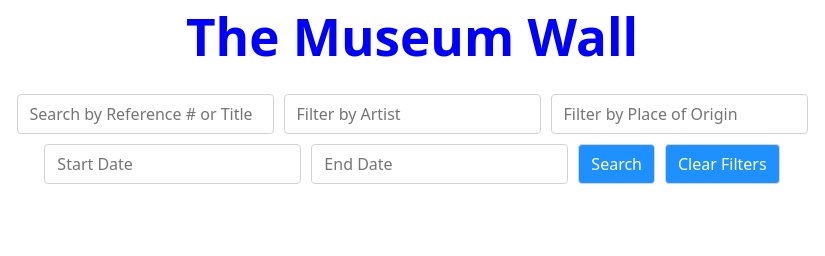
Test: App Component › should display a "no results" message if a search yields no matches
The image size is (825, 256).
Type "Monet" into the field with placeholder "Search by Reference # or Title" at [145, 114], box x1=16 y1=94 x2=274 y2=134
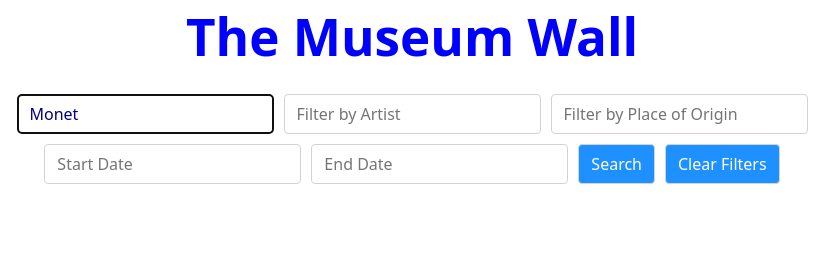
Click the button "Search" at [617, 164], box x1=578 y1=144 x2=655 y2=184
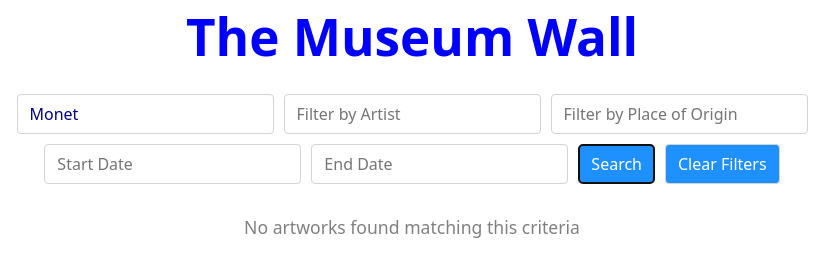
expect the text "No artworks found matching this criteria" is shown: met, box x1=244 y1=215 x2=580 y2=239
